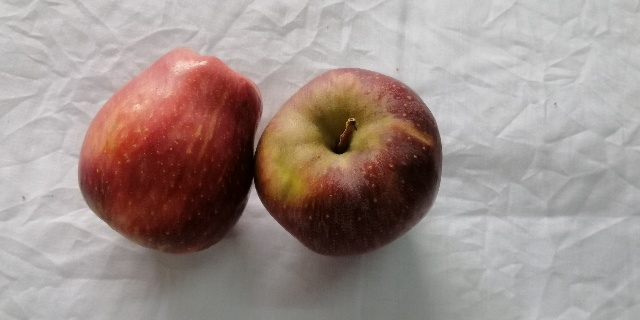apple_kashmir: (80, 49, 261, 255), (255, 68, 441, 258)
